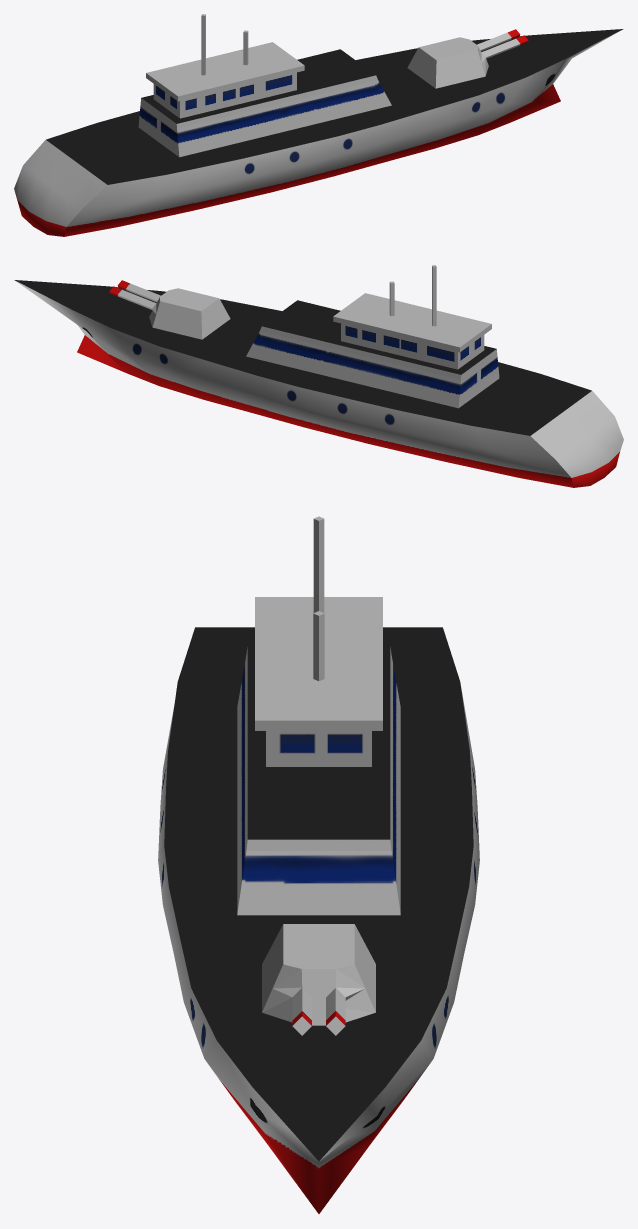
File: patrol boat01.FBX
3 views of the same model, one above another, from view 1: azimuth 30°, elevation 25°; view 2: azimuth 150°, elevation 25°; view 3: azimuth 270°, elevation 25° (orthographic). The views are drawn at different scales.
Parts seen in each view (by area): view 1: Box001; view 2: Box001; view 3: Box001.
Boxes of the visible parts, box(x1,y1,x2,y2) form: Box001: box(14, 14, 623, 236); Box001: box(14, 265, 623, 487); Box001: box(158, 516, 479, 1213).
Size of the model in its own units: 272 by 77.29 by 63.62.
1 material, 1 textured.
